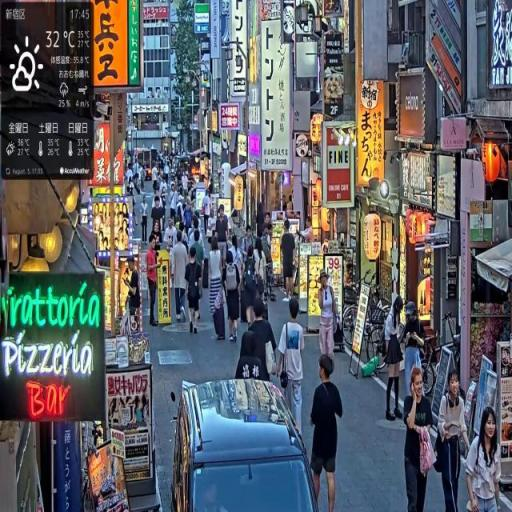person: (403, 365, 440, 512), (310, 354, 344, 512), (436, 370, 470, 512), (277, 297, 306, 443), (465, 407, 504, 512), (240, 298, 280, 383), (385, 294, 408, 425), (402, 302, 428, 407), (224, 246, 243, 345), (319, 271, 338, 370), (171, 231, 191, 324), (185, 246, 204, 337), (145, 236, 161, 328), (281, 221, 299, 302), (141, 196, 151, 245)
